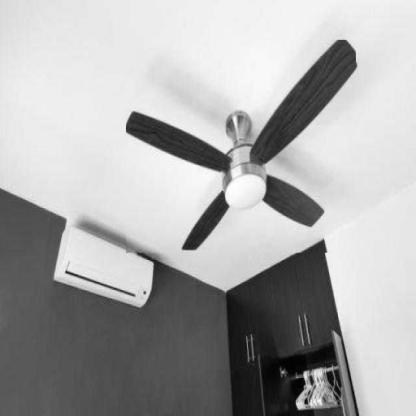ceiling-fan: (126, 40, 357, 253)
